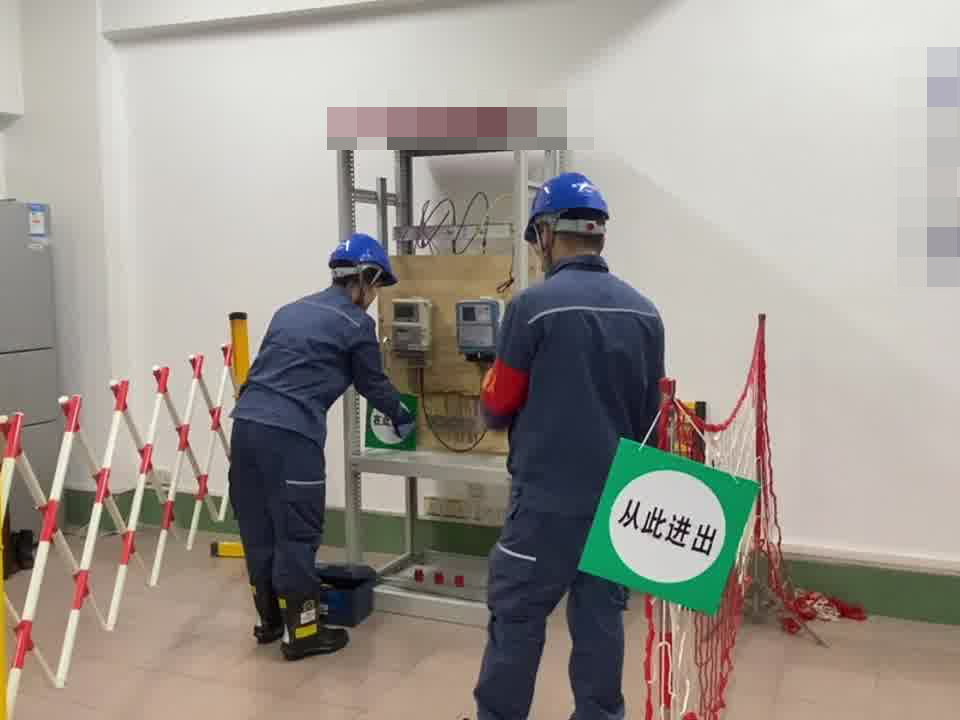badge: (478, 357, 532, 425)
downsuit: (470, 516, 630, 720), (227, 430, 336, 612)
glove: (390, 400, 415, 440)
halt: (523, 171, 614, 262), (327, 232, 395, 304)
inear: (533, 214, 560, 258), (353, 264, 381, 302)
intosign: (574, 437, 759, 618)
person: (458, 168, 674, 720), (222, 229, 417, 641)
shoe: (274, 587, 348, 653), (247, 583, 280, 639)
upsuit: (476, 257, 670, 504), (237, 285, 399, 425)
worksign: (362, 390, 423, 453)
